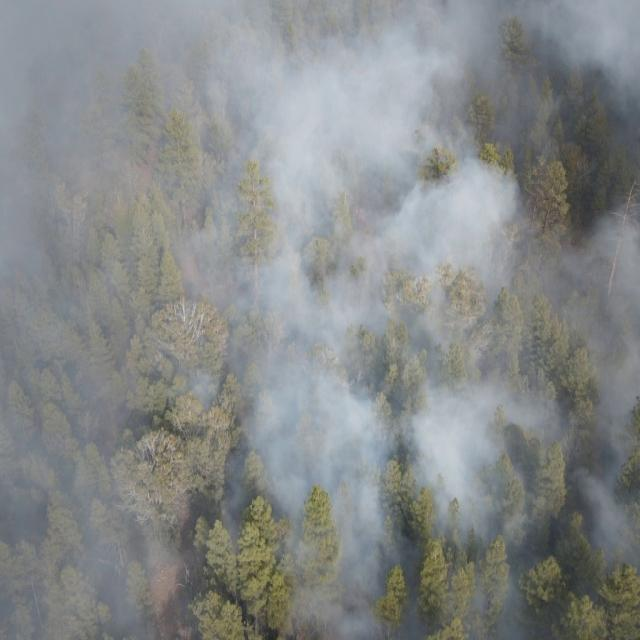smoke: (0, 0, 640, 495), (274, 495, 639, 640), (0, 496, 229, 640)
